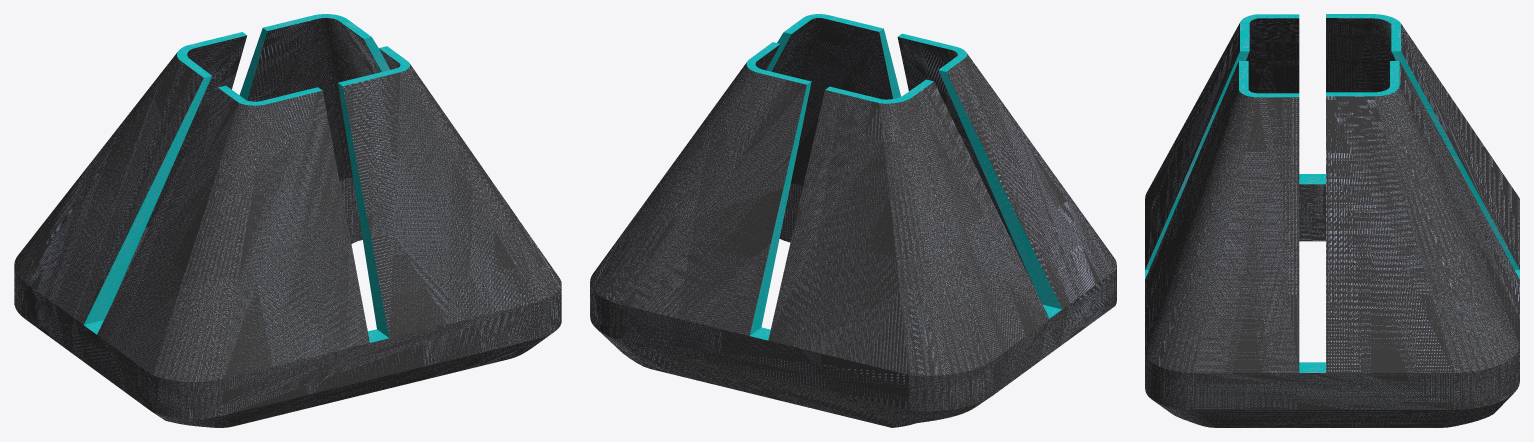
The picture shows the model from 3 angles, left to right: view 1: azimuth 30°, elevation 25°; view 2: azimuth 150°, elevation 25°; view 3: azimuth 270°, elevation 25°; orthographic projection. The views are drawn at different scales.
Parts seen in each view (by area): view 1: SketchUp (×2); view 2: SketchUp (×2); view 3: SketchUp (×2).
Part boxes in pixels (x1,y1,x2,y2): SketchUp (×2): (14, 14, 561, 427); SketchUp (×2): (590, 14, 1116, 427); SketchUp (×2): (1145, 14, 1519, 427).
Bounding box in the file's own units: 5884 × 4680 × 4005.
